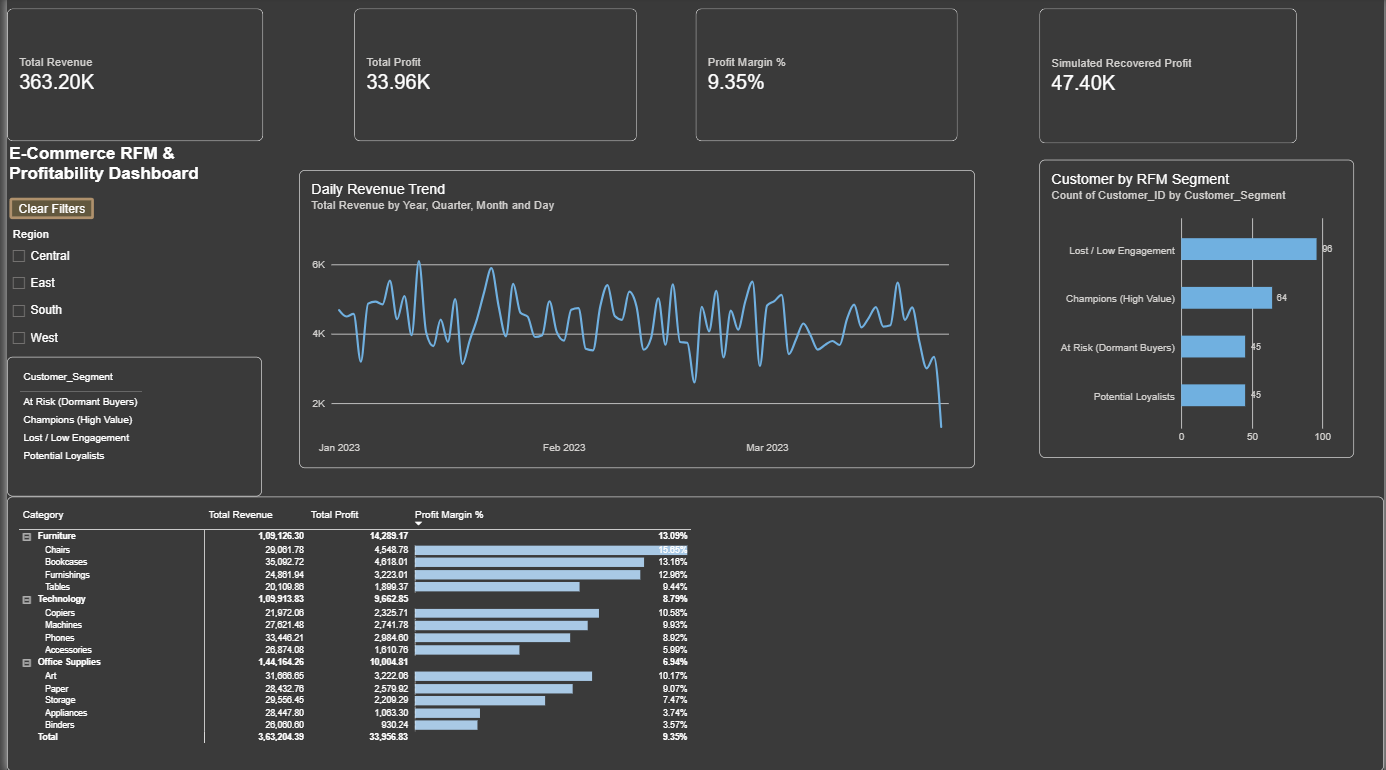

Layout of this report page (visuals, bound fields, positions):
{"tool":"powerbi","page":{"name":"Page 1","canvas":[1920,1080],"ordinal":0},"visuals":[{"type":"cardVisual","fields":{"Data":["cleaned_ecommerce_sales.Total Profit"]},"box":[483.8,16,394.4,185.2],"z":0},{"type":"cardVisual","fields":{"Data":["cleaned_ecommerce_sales.Profit Margin %"]},"box":[959.6,16,365.6,185.2],"z":1},{"type":"cardVisual","fields":{"Data":["cleaned_ecommerce_sales.Total Revenue"]},"box":[0,16,357.6,185.2],"z":2},{"type":"cardVisual","fields":{"Data":["cleaned_ecommerce_sales.Simulated Recovered Profit"]},"box":[1438.6,16,360.8,188.4],"z":3},{"type":"slicer","fields":{"Values":["cleaned_ecommerce_sales.Region"]},"box":[0,320.9,367.2,180.4],"z":4},{"type":"tableEx","fields":{"Values":["rfm_customer_segments.Customer_Segment"]},"box":[0,501.3,355,195],"z":6},{"type":"lineChart","title":"Daily Revenue Trend","fields":{"Category":["cleaned_ecommerce_sales.Order_Date.Variation.Date Hierarchy.Year","cleaned_ecommerce_sales.Order_Date.Variation.Date Hierarchy.Quarter","cleaned_ecommerce_sales.Order_Date.Variation.Date Hierarchy.Month","cleaned_ecommerce_sales.Order_Date.Variation.Date Hierarchy.Day"],"Y":["cleaned_ecommerce_sales.Total Revenue"]},"box":[407.1,241.1,942,415.1],"z":7},{"type":"clusteredBarChart","title":"Customer by RFM Segment","fields":{"Category":["rfm_customer_segments.Customer_Segment"],"Y":["Count(rfm_customer_segments.Customer_ID)"]},"box":[1438.6,226.7,440,415],"z":8},{"type":"pivotTable","fields":{"Rows":["cleaned_ecommerce_sales.Category","cleaned_ecommerce_sales.Sub_Category"],"Values":["cleaned_ecommerce_sales.Total Revenue","cleaned_ecommerce_sales.Total Profit","cleaned_ecommerce_sales.Profit Margin %"]},"box":[0,696.1,1919.9,382.9],"z":9},{"type":"textbox","box":[3.2,204.4,362.4,62.3],"z":11},{"type":"actionButton","box":[3.2,279.4,118.2,30.3],"z":12}]}

Visuals, with their boxes in screenshot pixels (x1, y1, x2, y2), scaled from the page's 1920x1080 canvas onto the 1386x770 screenshot:
cardVisual - cleaned_ecommerce_sales.Total Profit: 349,11,634,143
cardVisual - cleaned_ecommerce_sales.Profit Margin %: 693,11,957,143
cardVisual - cleaned_ecommerce_sales.Total Revenue: 0,11,258,143
cardVisual - cleaned_ecommerce_sales.Simulated Recovered Profit: 1038,11,1299,146
slicer - cleaned_ecommerce_sales.Region: 0,229,265,357
tableEx - rfm_customer_segments.Customer_Segment: 0,357,256,496
"Daily Revenue Trend" lineChart: 294,172,974,468
"Customer by RFM Segment" clusteredBarChart: 1038,162,1356,458
pivotTable - cleaned_ecommerce_sales.Category x cleaned_ecommerce_sales.Sub_Category: 0,496,1385,769
textbox: 2,146,264,190
actionButton: 2,199,88,221
